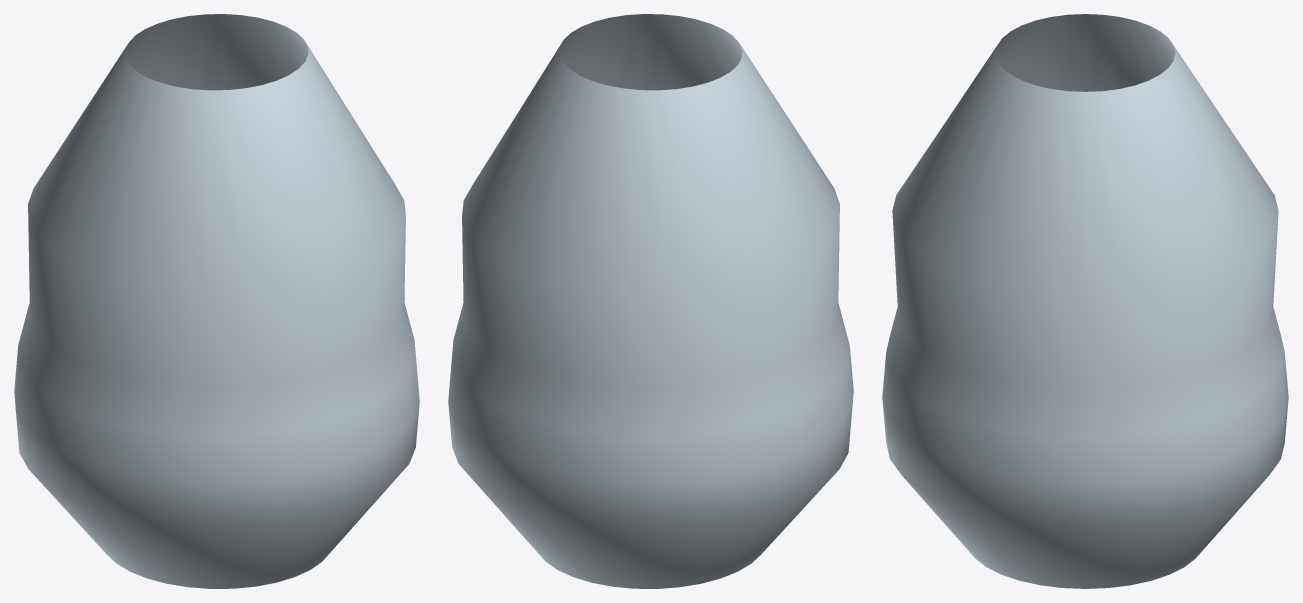
Rendered from Spaceship Fire Shader Mesh 1.fbx.
The picture shows the model from 3 angles, left to right: view 1: azimuth 30°, elevation 25°; view 2: azimuth 150°, elevation 25°; view 3: azimuth 270°, elevation 25°; orthographic projection.
Parts seen in each view (by area): view 1: Sphere; view 2: Sphere; view 3: Sphere.
Part boxes in pixels (left/top/right/bottom): Sphere: left=14, top=14, right=419, bottom=588; Sphere: left=448, top=14, right=853, bottom=588; Sphere: left=882, top=14, right=1288, bottom=588.
Size of the model in its own units: 250 by 330 by 250.
